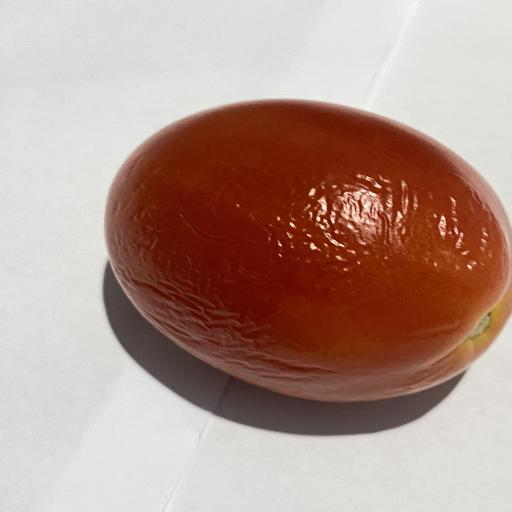spoiled: (105, 100, 512, 402), (105, 100, 512, 401)
